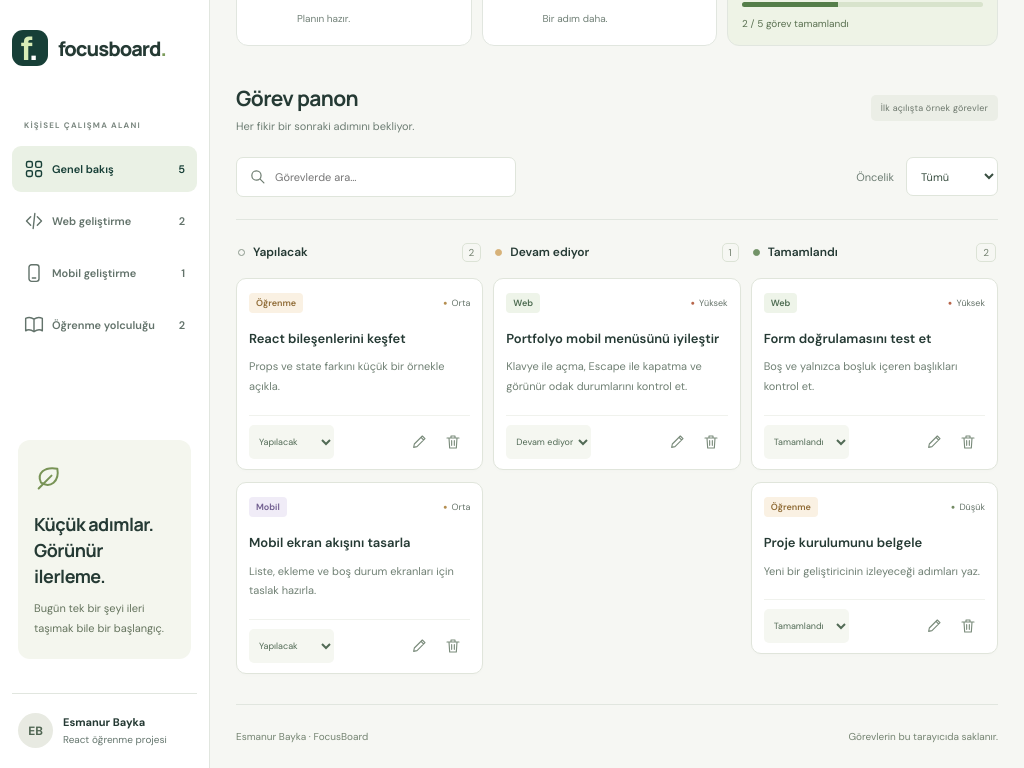
Test: task board user journeys › moves a task between columns and updates progress
(page scrolled)
Select "Tamamlandı" in the dropdown named "React bileşenlerini keşfet durumu" below "React bileşenlerini keşfet" at (292, 442), box [249,425,334,459]
(page scrolled)
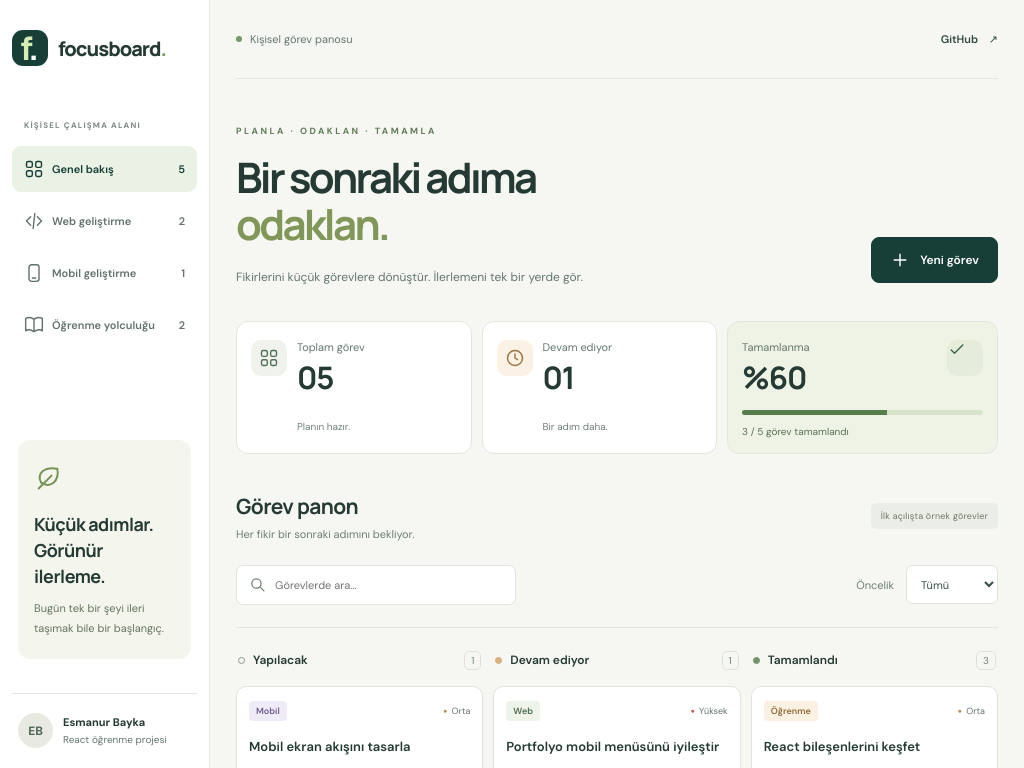
Expected: the heading "React bileşenlerini keşfet" is shown, [764,738,920,754]
Expected: the text "%60" is shown, [742,356,806,398]
